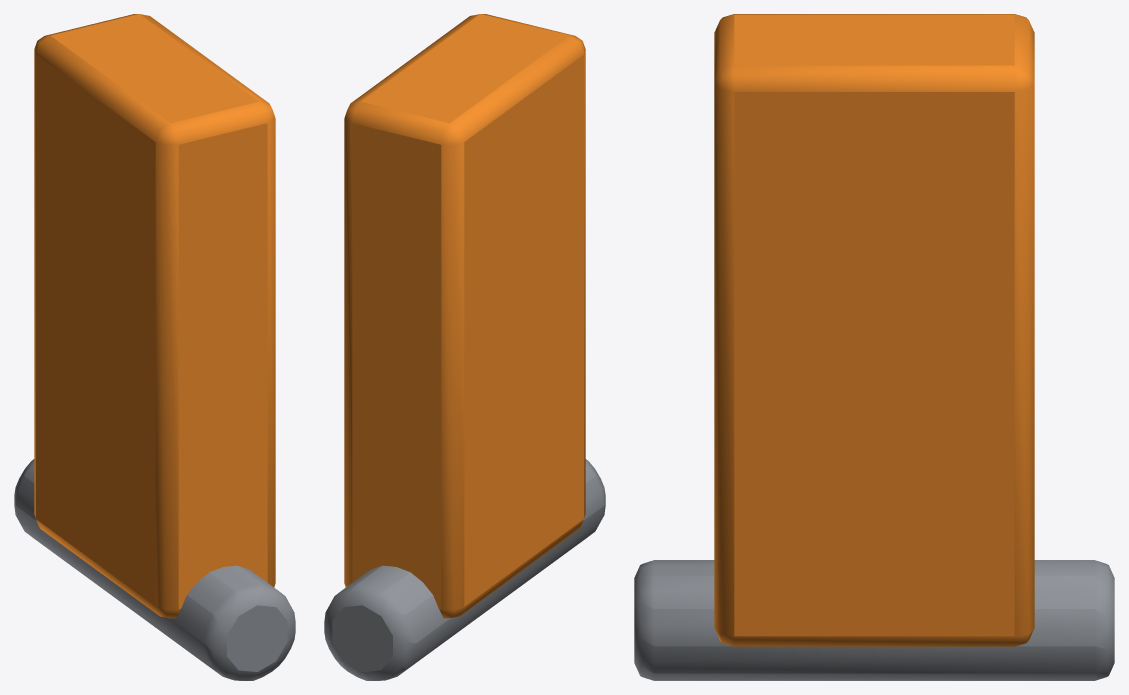
Rendered from shuttle_fgate_l_b.obj.
3 views of the same model, side by side, from view 1: azimuth 30°, elevation 25°; view 2: azimuth 150°, elevation 25°; view 3: azimuth 270°, elevation 25° (orthographic). The views are drawn at different scales.
Parts seen in each view (by area): view 1: shuttle_fgate_l_b; view 2: shuttle_fgate_l_b; view 3: shuttle_fgate_l_b.
Boxes of the visible parts, bbox=[...] form: shuttle_fgate_l_b: bbox=[14, 14, 295, 680]; shuttle_fgate_l_b: bbox=[324, 14, 605, 680]; shuttle_fgate_l_b: bbox=[634, 14, 1114, 680].
Bounding box in the file's own units: 0.01 × 0.0438 × 0.03.
